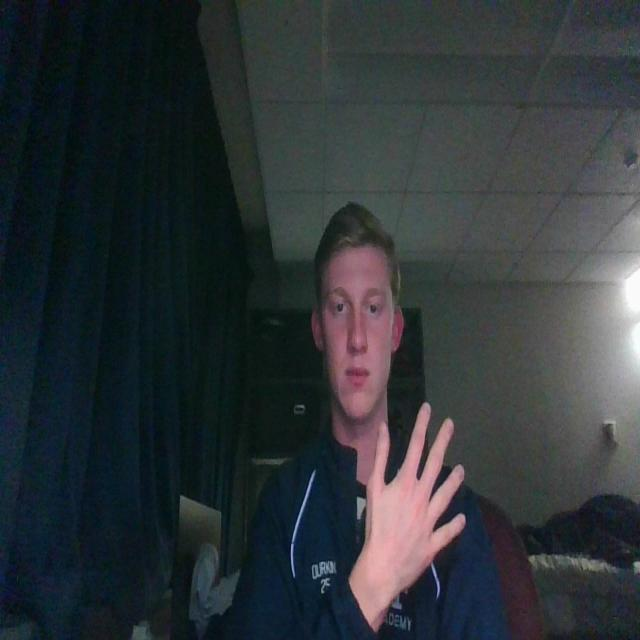paper: (365, 393, 471, 604)
